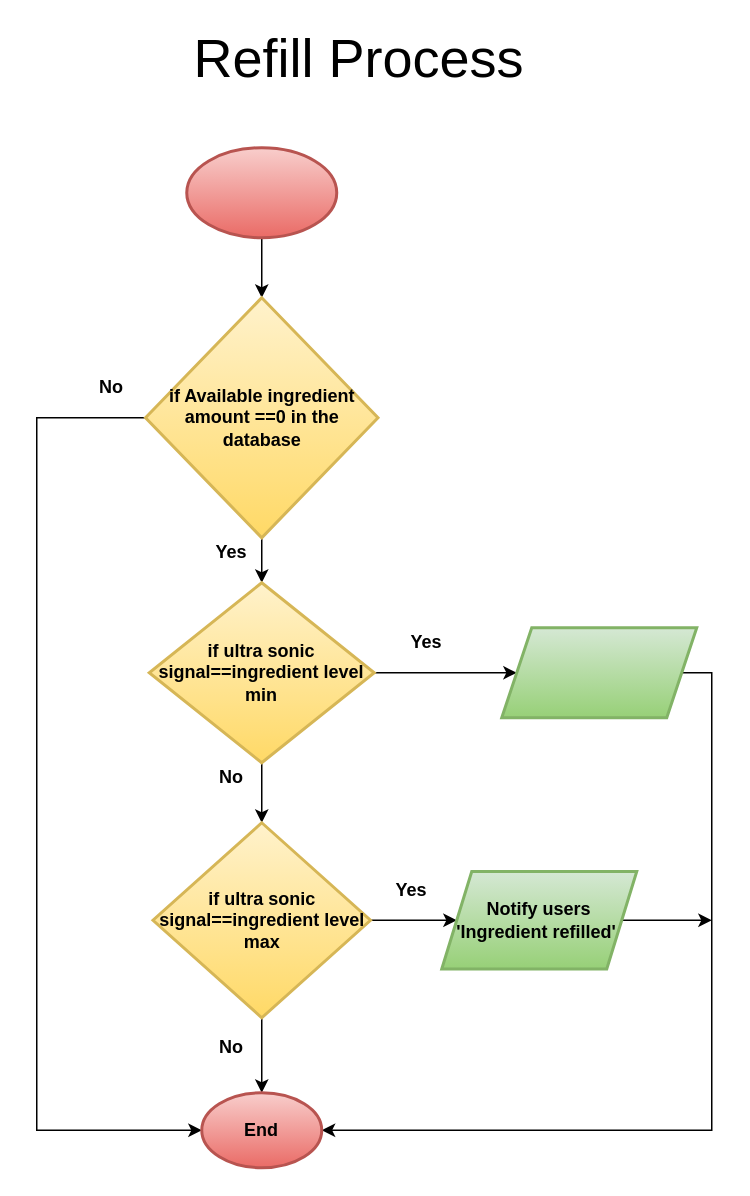
Some shapes in this 750 by 1196 pixel diagram are drawn without their labels. Each missing label, with the centre of its shape:
"Notify user 'Refill needed'" goes at (x=599, y=672).
"Start" goes at (x=261, y=192).
